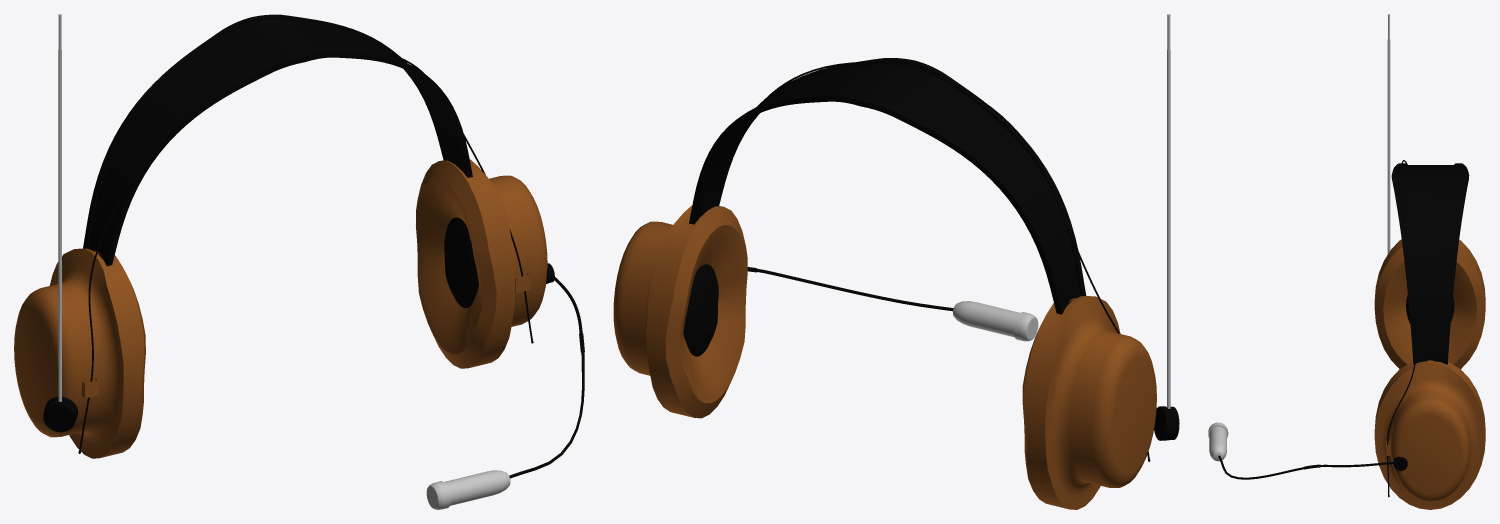
3 views of the same model, side by side, from view 1: azimuth 30°, elevation 25°; view 2: azimuth 150°, elevation 25°; view 3: azimuth 270°, elevation 25° (orthographic). The views are drawn at different scales.
Parts seen in each view (by area): view 1: Circle.003; view 2: Circle.003; view 3: Circle.003.
Boxes of the visible parts, box(x1,y1,x2,y2) form: Circle.003: box(14, 14, 584, 509); Circle.003: box(613, 14, 1179, 509); Circle.003: box(1208, 14, 1485, 509).
Size of the model in its own units: 147 by 130 by 96.4.
